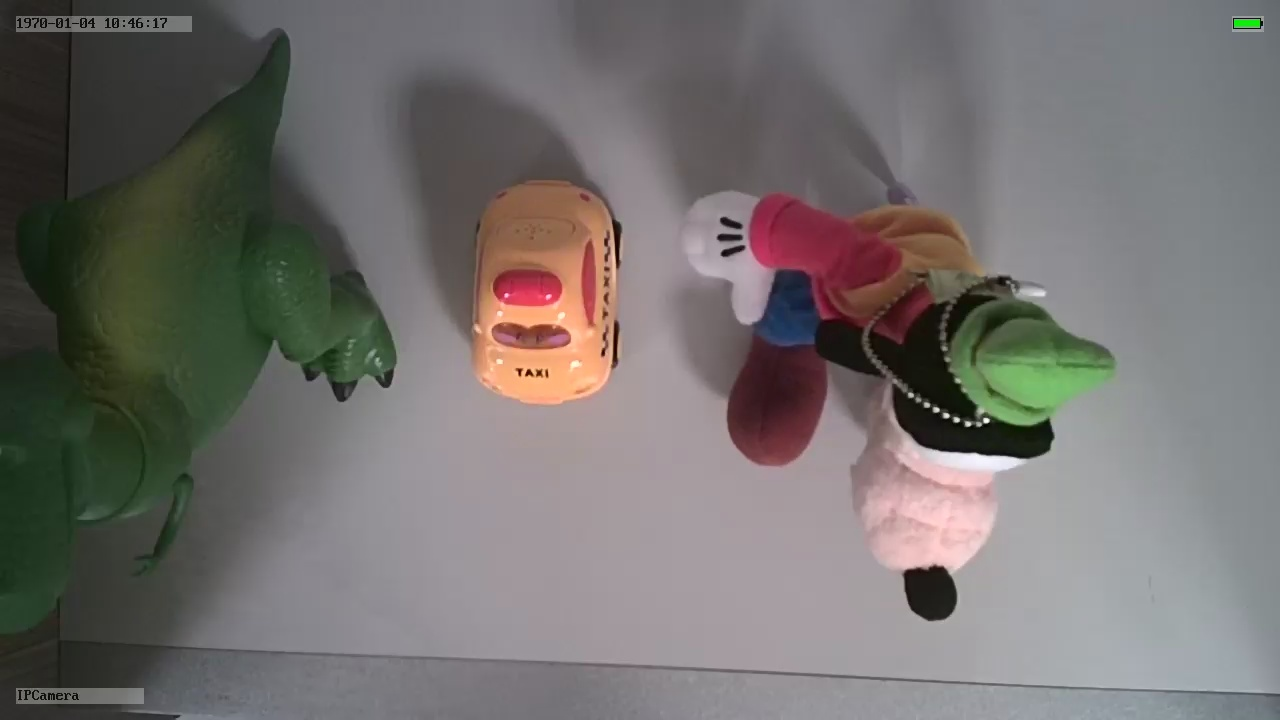car: (467, 170, 628, 405)
goofy: (678, 185, 1122, 633)
